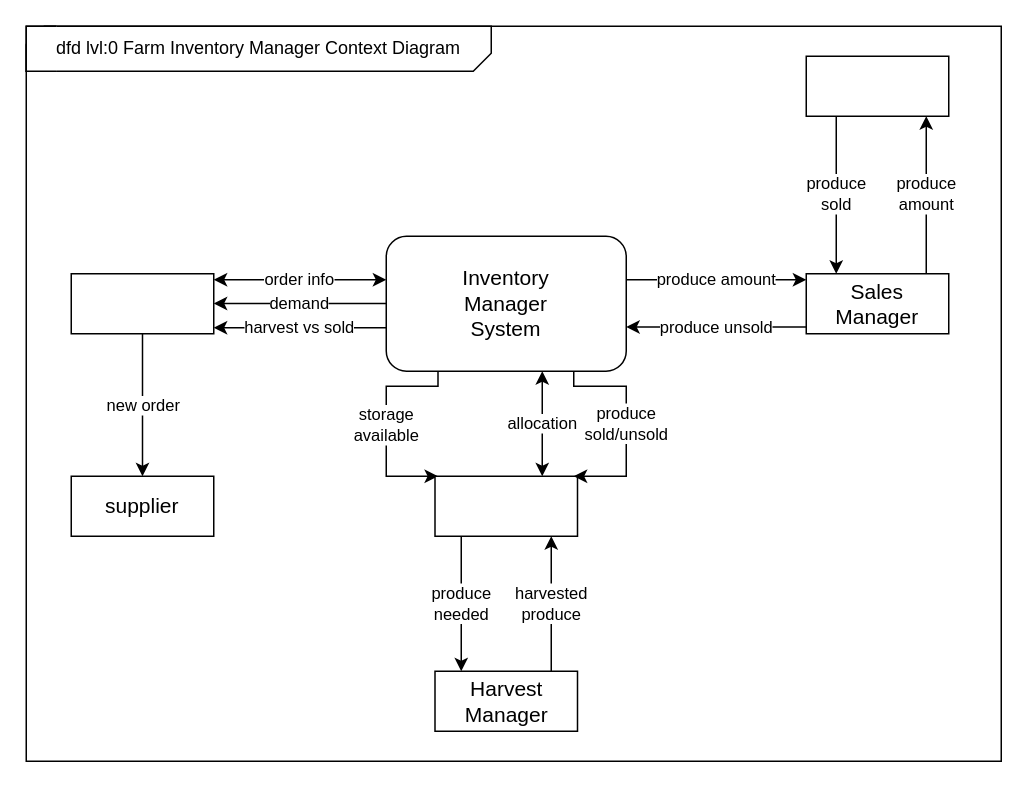
Image size: 1028x788. Some labels were removed from this diagram. Each missing label, with the centre of its shape:
"Farm Manager" goes at (142,303).
"market team" goes at (877,85).
"Stock Manager" goes at (506,505).
